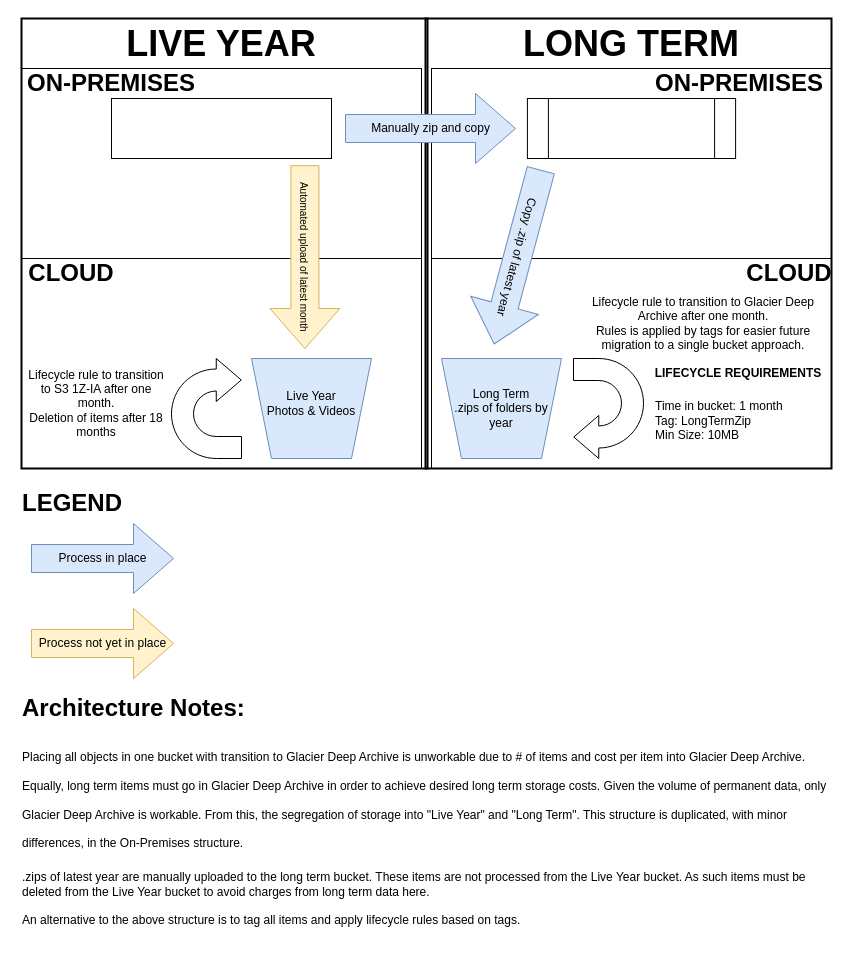
Image size: 854x965. Some labels were removed from this diagram. The shapes that lost their labels are listed below. From the top down, each one's centre as x and y in pixels, then its label:
At (221,128): "Primary Computer - Hard Drive".
At (631,128): "Dedicated External Drive".
